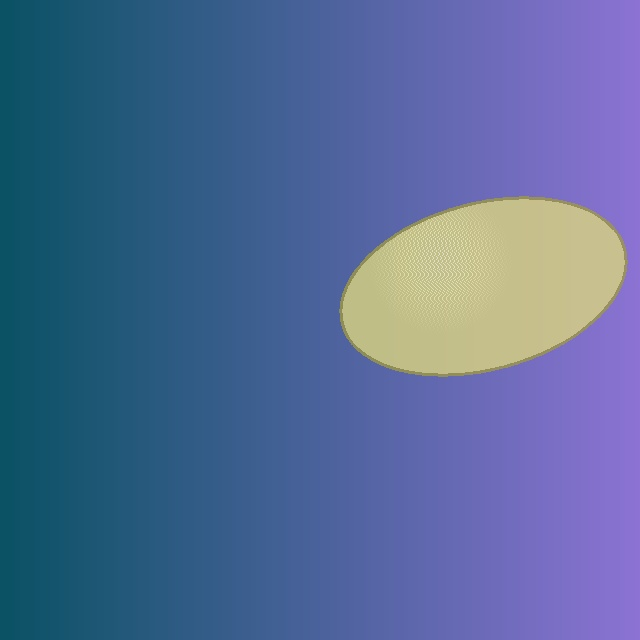lens: (341, 198, 625, 374)
